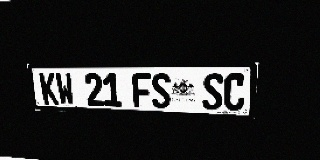1: (101, 73, 121, 107)
2: (84, 73, 104, 106)
C: (223, 73, 246, 111)
F: (132, 73, 152, 108)
K: (39, 73, 59, 105)
S: (202, 73, 224, 110), (151, 73, 171, 109)
W: (55, 73, 75, 105)
